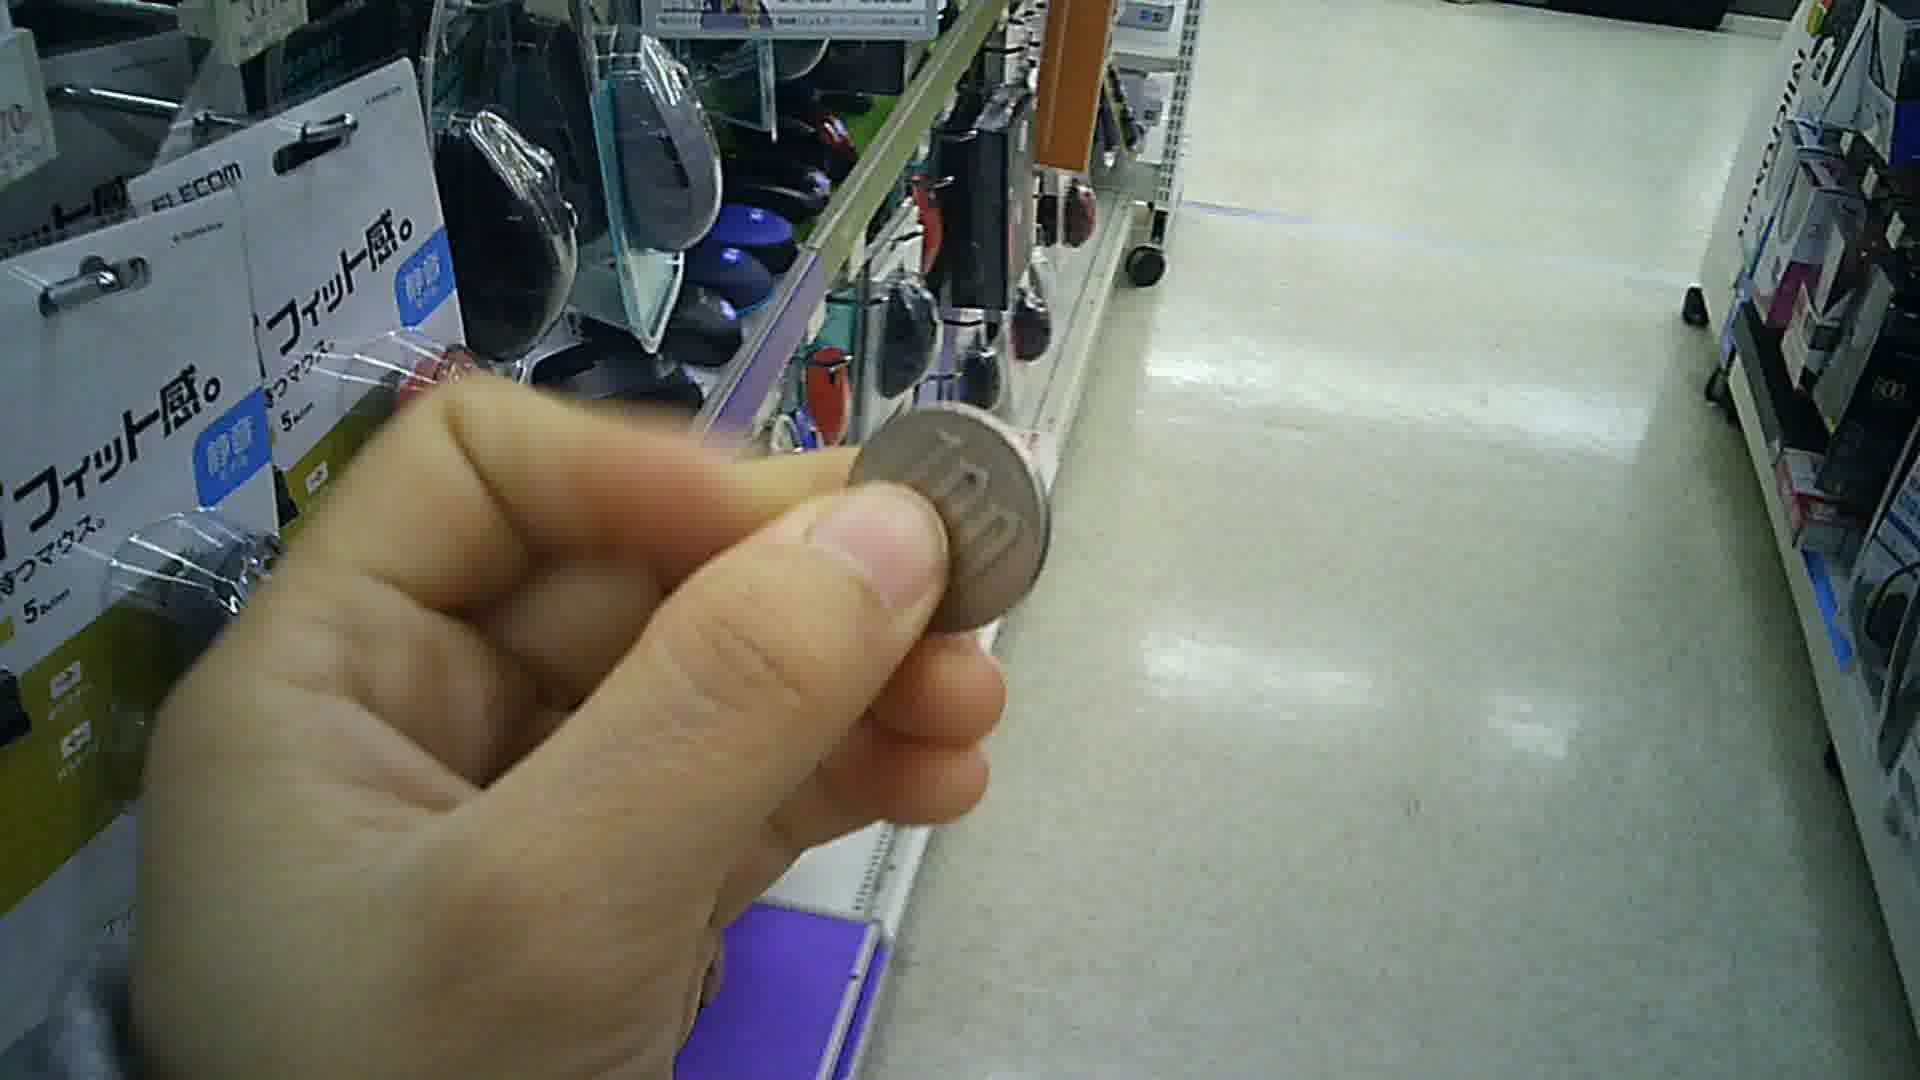100 Yen: (831, 394, 1073, 650)
